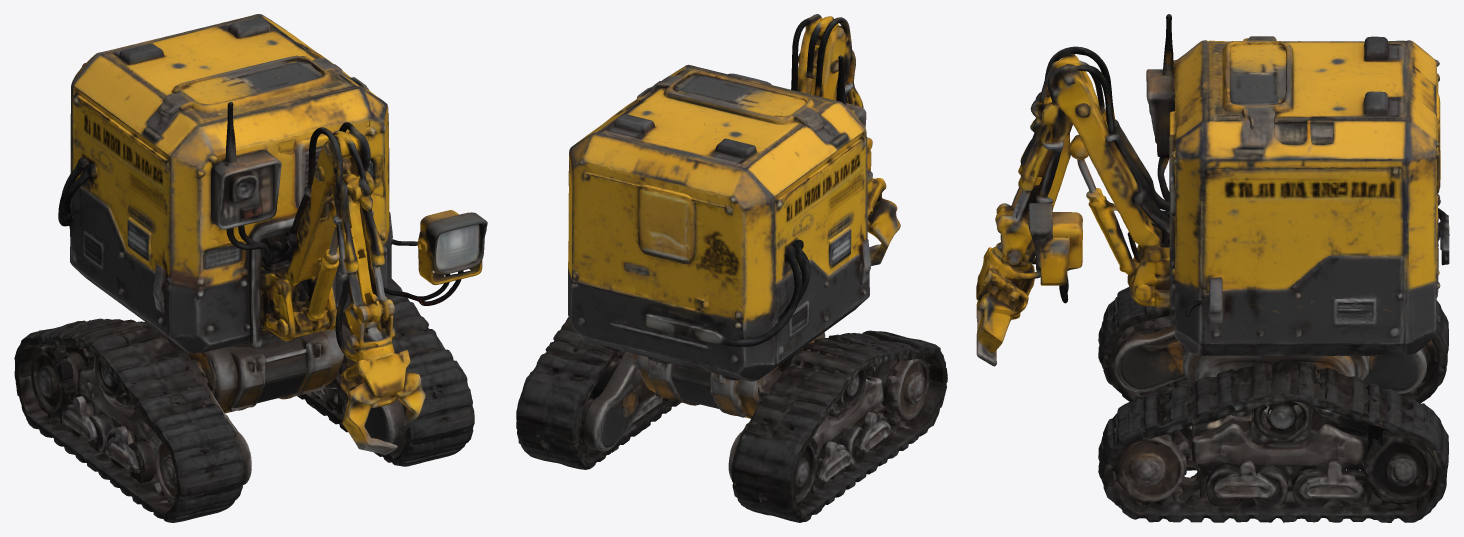
The model's file is builder.glb.
The picture shows the model from 3 angles, left to right: view 1: azimuth 30°, elevation 25°; view 2: azimuth 150°, elevation 25°; view 3: azimuth 270°, elevation 25°; orthographic projection. The views are drawn at different scales.
Parts seen in each view (by area): view 1: world; view 2: world; view 3: world.
Boxes of the visible parts, <box> form: world: <box>14,14,487,522</box>; world: <box>516,14,947,522</box>; world: <box>976,14,1449,522</box>.
Bounding box in the file's own units: 0.85 × 1.08 × 1.14.
1 material, 1 textured.
